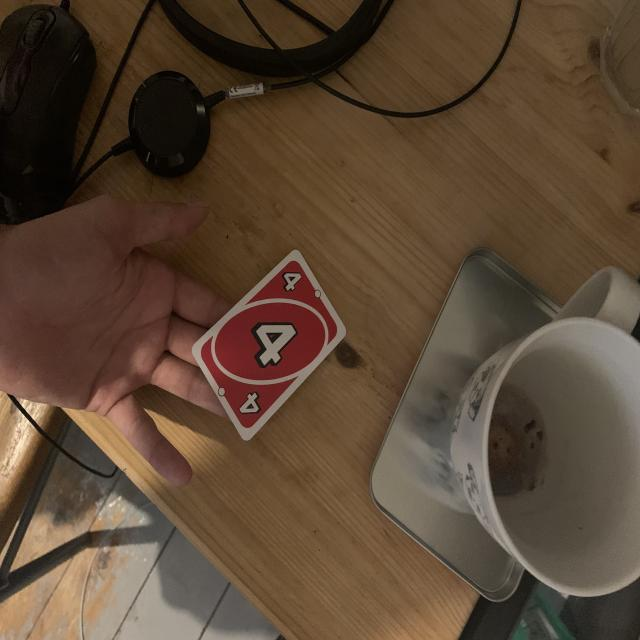lred-4: (277, 265, 304, 298)
